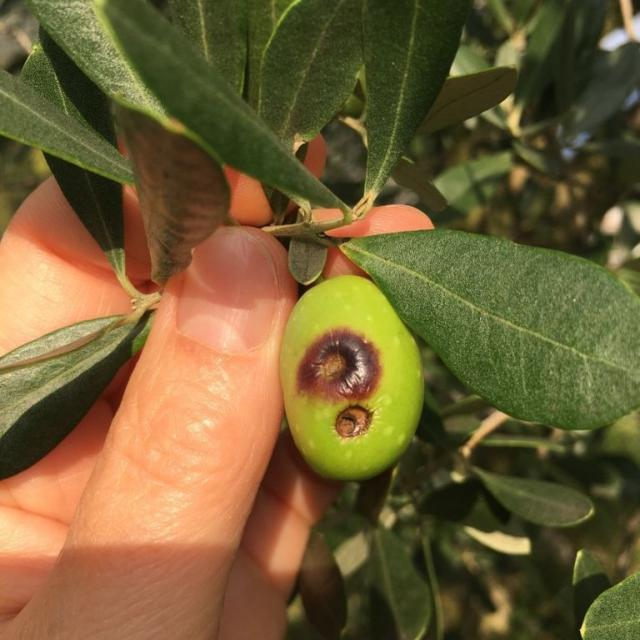Olive Fruit Fly: (280, 276, 424, 480)
